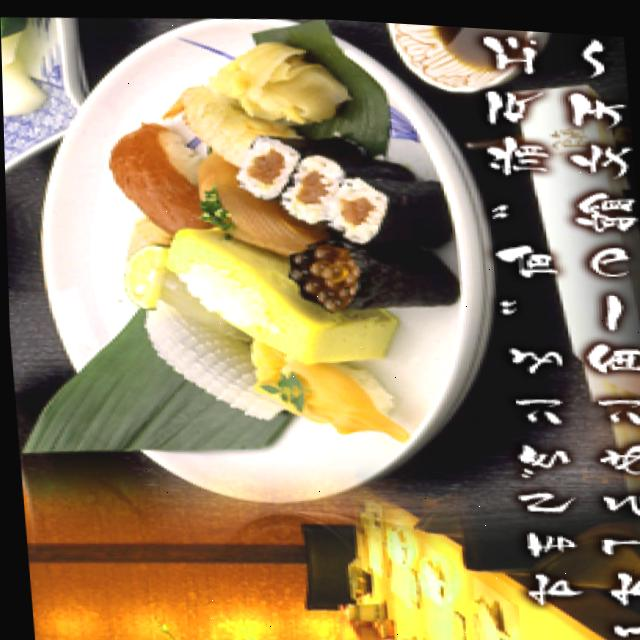寿司卷物: (31, 1, 473, 487)
